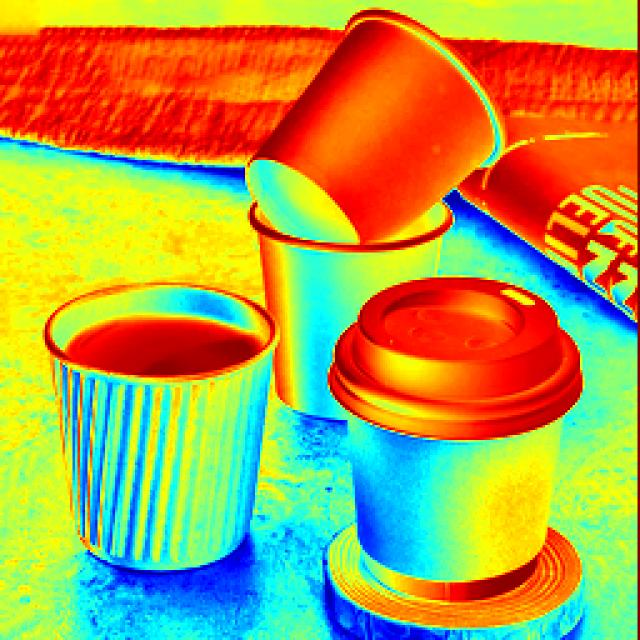Paper Cups: (23, 262, 268, 611), (320, 297, 576, 579), (212, 31, 481, 232)
